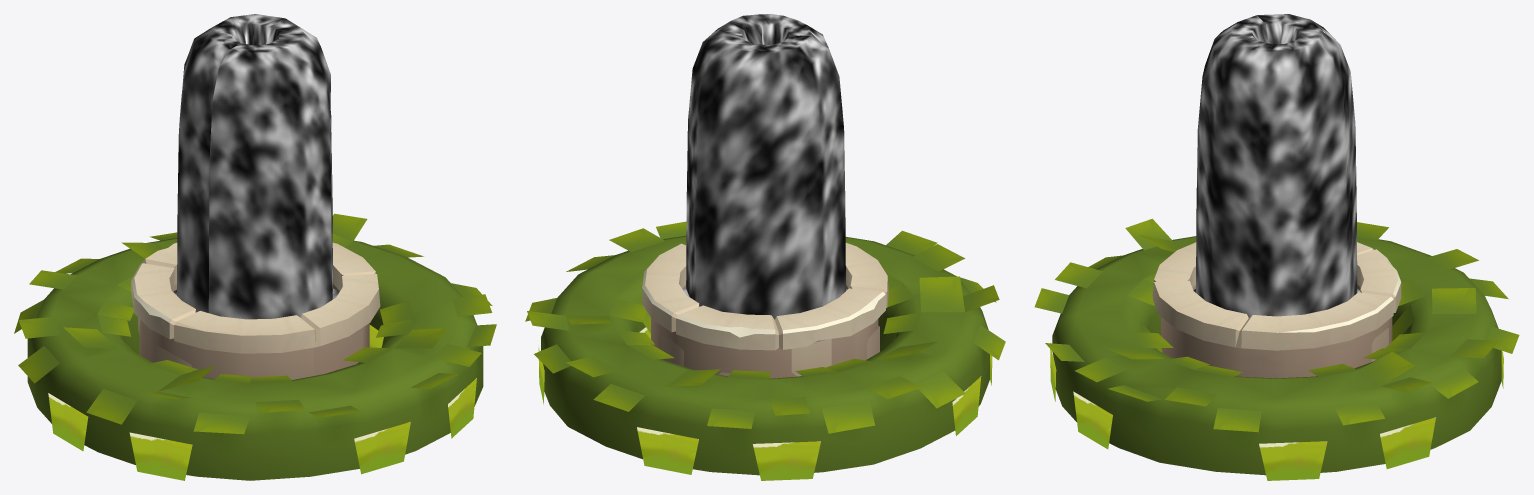
3 renders of one model, left to right at view 1: azimuth 30°, elevation 25°; view 2: azimuth 150°, elevation 25°; view 3: azimuth 270°, elevation 25°, orthographic.
Parts seen in each view (by area): view 1: V_GK_Circle_Bush, B_GK_Fountain_Water Variant, B_GK_Fountain; view 2: V_GK_Circle_Bush, B_GK_Fountain_Water Variant, B_GK_Fountain; view 3: V_GK_Circle_Bush, B_GK_Fountain_Water Variant, B_GK_Fountain.
Boxes of the visible parts, left/top/right/bottom form: V_GK_Circle_Bush: left=14, top=213, right=496, bottom=480; B_GK_Fountain_Water Variant: left=173, top=14, right=338, bottom=319; B_GK_Fountain: left=131, top=242, right=380, bottom=379; V_GK_Circle_Bush: left=525, top=221, right=1005, bottom=480; B_GK_Fountain_Water Variant: left=683, top=14, right=847, bottom=319; B_GK_Fountain: left=642, top=242, right=888, bottom=378; V_GK_Circle_Bush: left=1034, top=218, right=1519, bottom=480; B_GK_Fountain_Water Variant: left=1193, top=14, right=1360, bottom=317; B_GK_Fountain: left=1152, top=242, right=1401, bottom=378.
Size of the model in its own units: 5.6 by 4.79 by 5.6.
4 materials, 4 textured.
